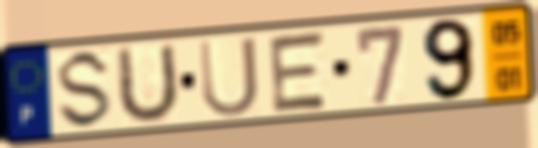7: (353, 22, 409, 107)
9: (419, 16, 481, 103)
E: (267, 28, 331, 116)
S: (53, 47, 115, 133)
U: (115, 39, 182, 128), (195, 33, 262, 121)
